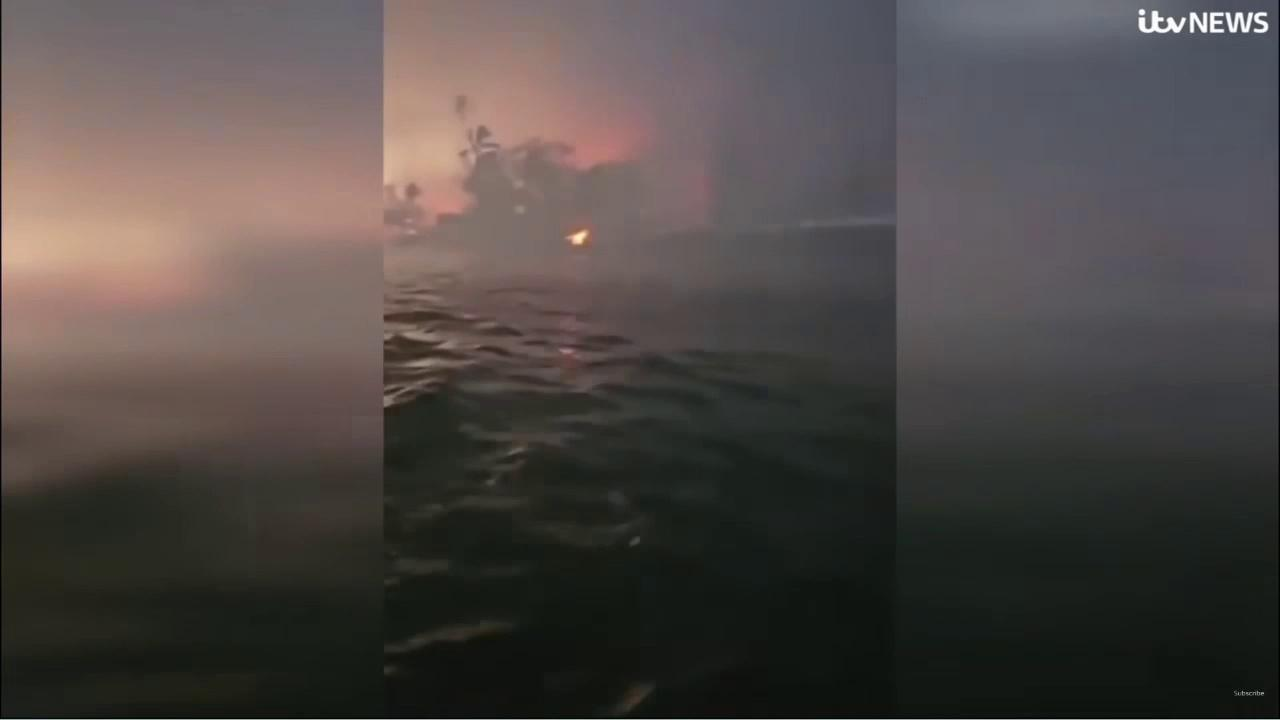fire: (563, 229, 590, 247)
smoke: (384, 0, 897, 250)
